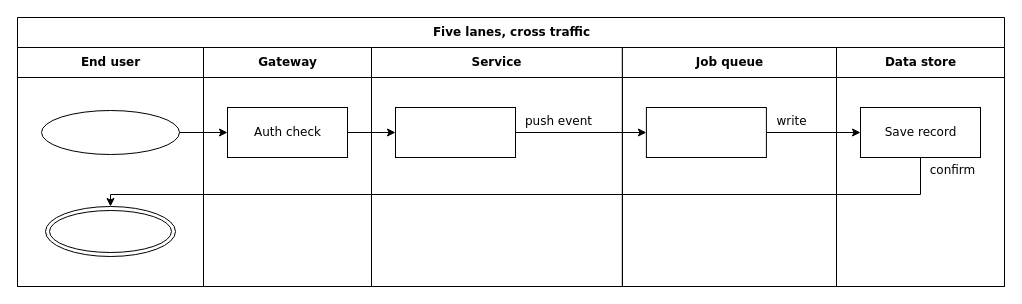
This 1022x304 diagram has some shape labels left out. Each missing label, with the centre of its shape:
Business logic: the point at 455,132
Enqueue: the point at 705,132
Get results: the point at 110,231
Send request: the point at 110,132
